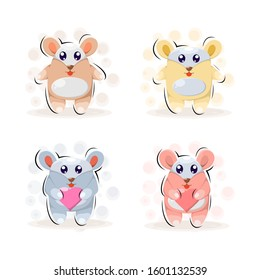animal: (149, 34, 228, 114), (34, 144, 109, 227), (33, 31, 105, 115), (153, 145, 217, 229)
